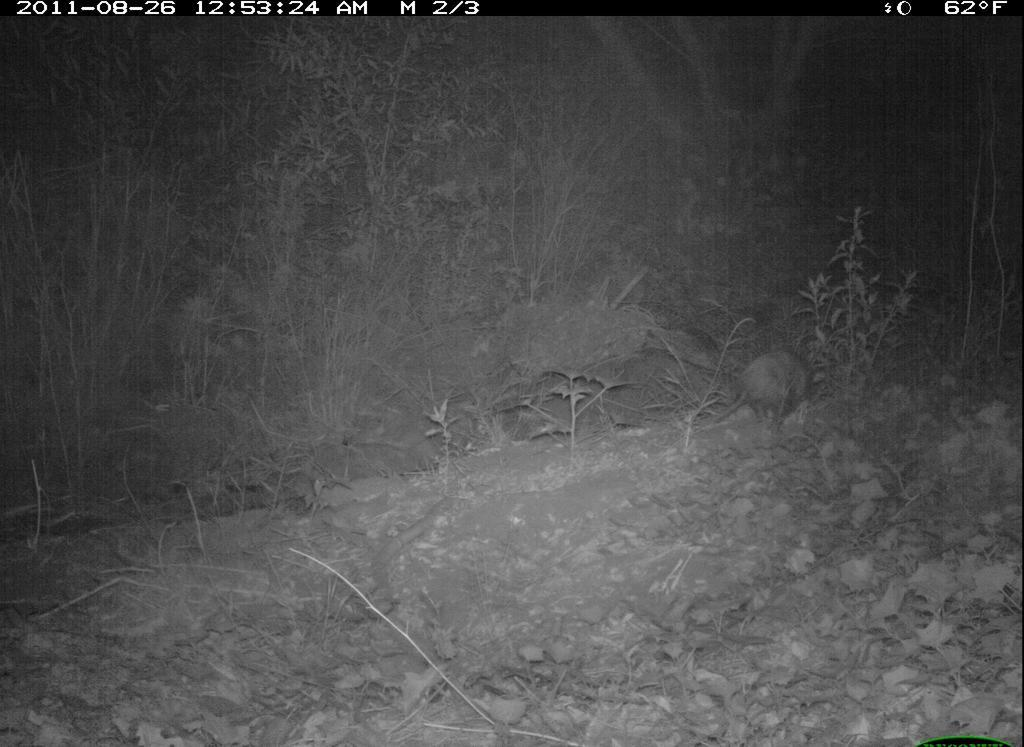opossum: (721, 337, 830, 445)
